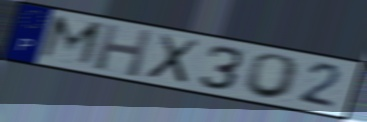2: (293, 60, 346, 112)
3: (198, 45, 247, 92)
H: (91, 22, 154, 80)
M: (35, 13, 107, 70)
O: (241, 52, 303, 102)
X: (143, 32, 203, 86)
